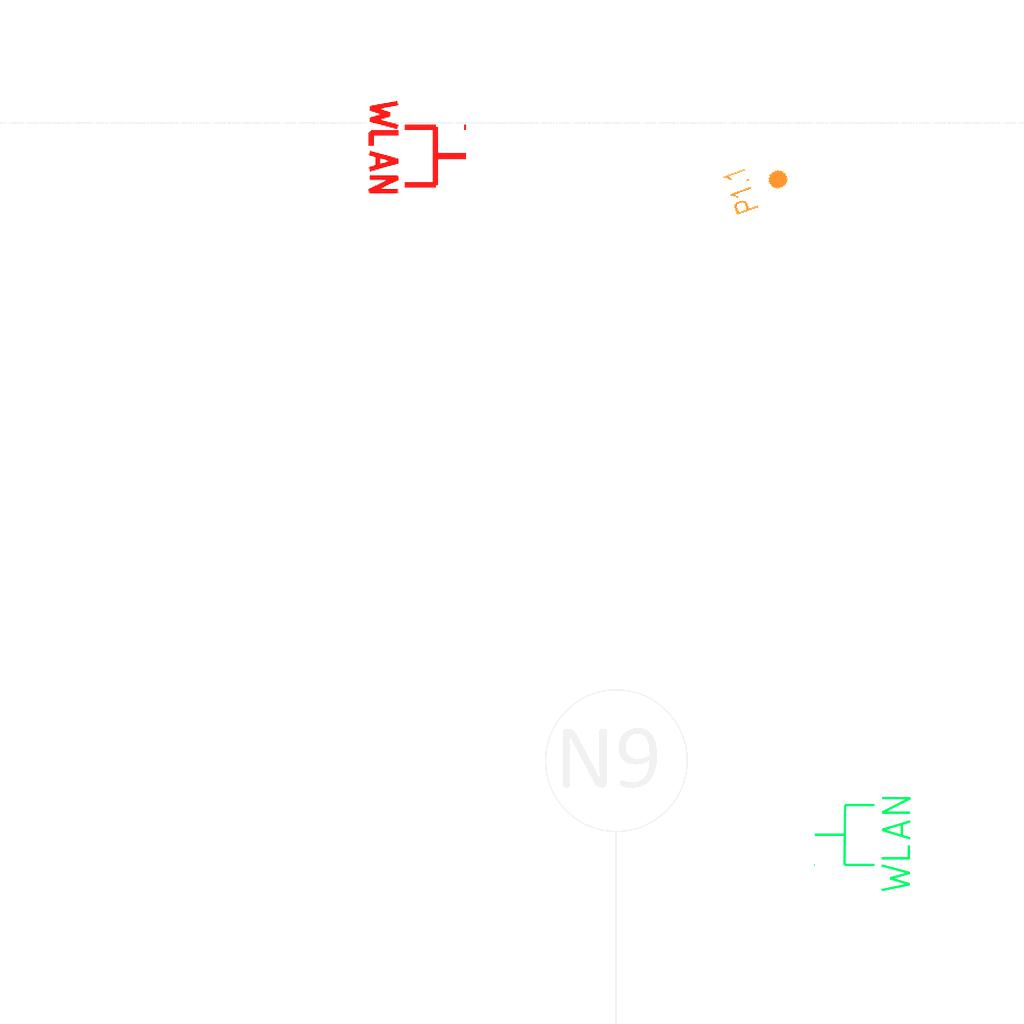Downlight_LED_Einbauleuchten_Flur: (720, 152, 796, 218)
WLAN: (811, 792, 915, 897), (366, 95, 471, 199)
